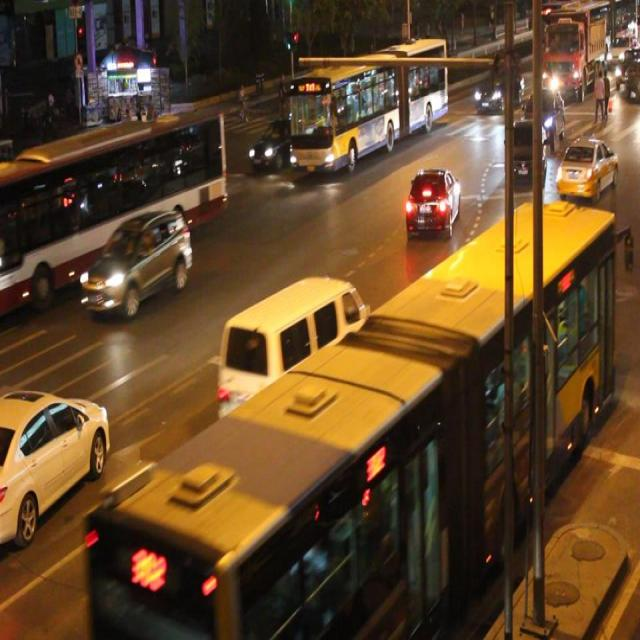car: (1, 387, 110, 536), (79, 208, 192, 316), (404, 164, 460, 239), (554, 135, 617, 199), (503, 120, 544, 186), (250, 117, 302, 169)
truck: (219, 275, 366, 425)
van: (86, 201, 612, 640), (1, 110, 224, 302), (289, 39, 446, 164)
